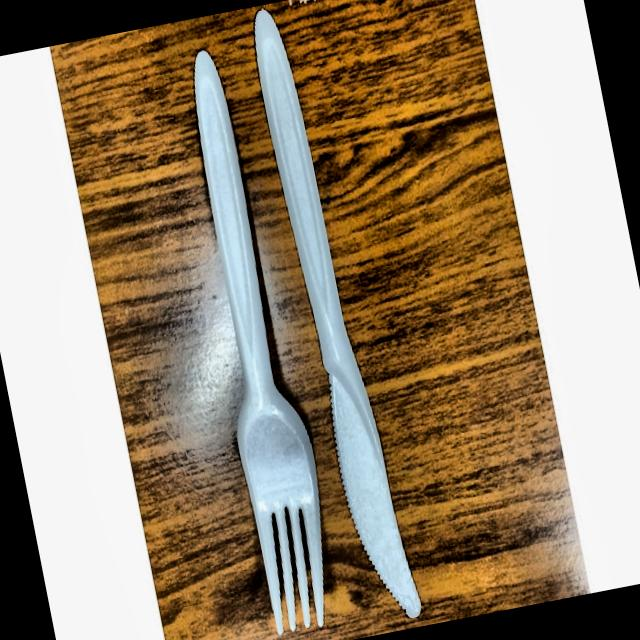plastic utensil: (158, 37, 351, 640)
